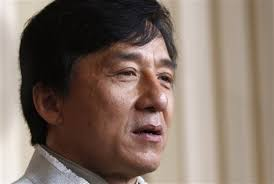person: (19, 1, 176, 176)
